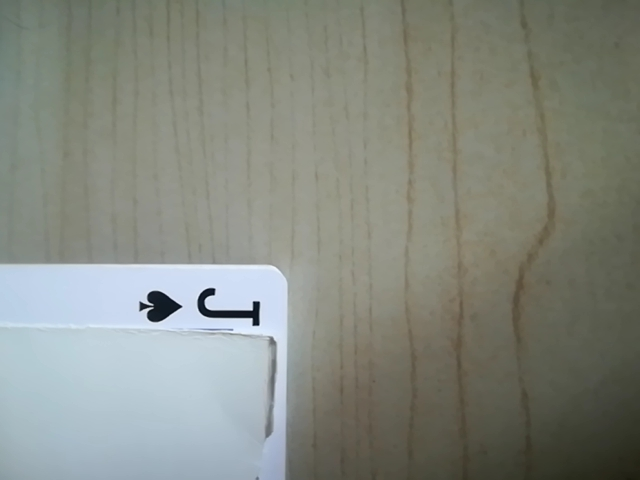ht j: (122, 273, 292, 344)
